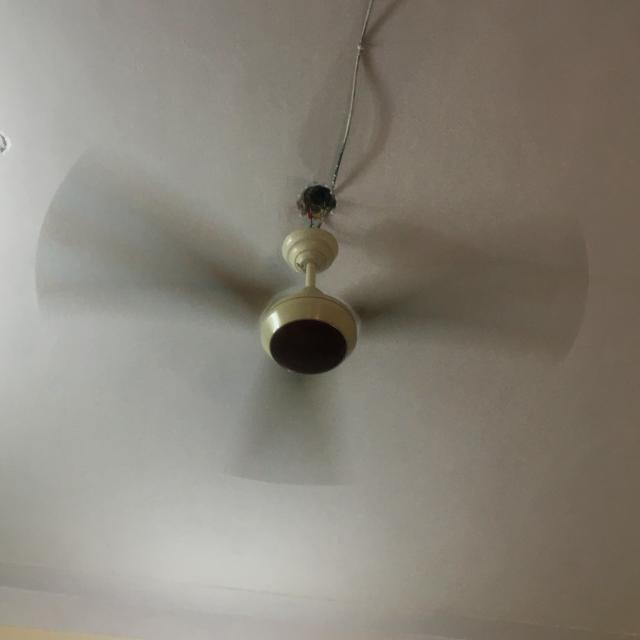on: (29, 136, 596, 495)
